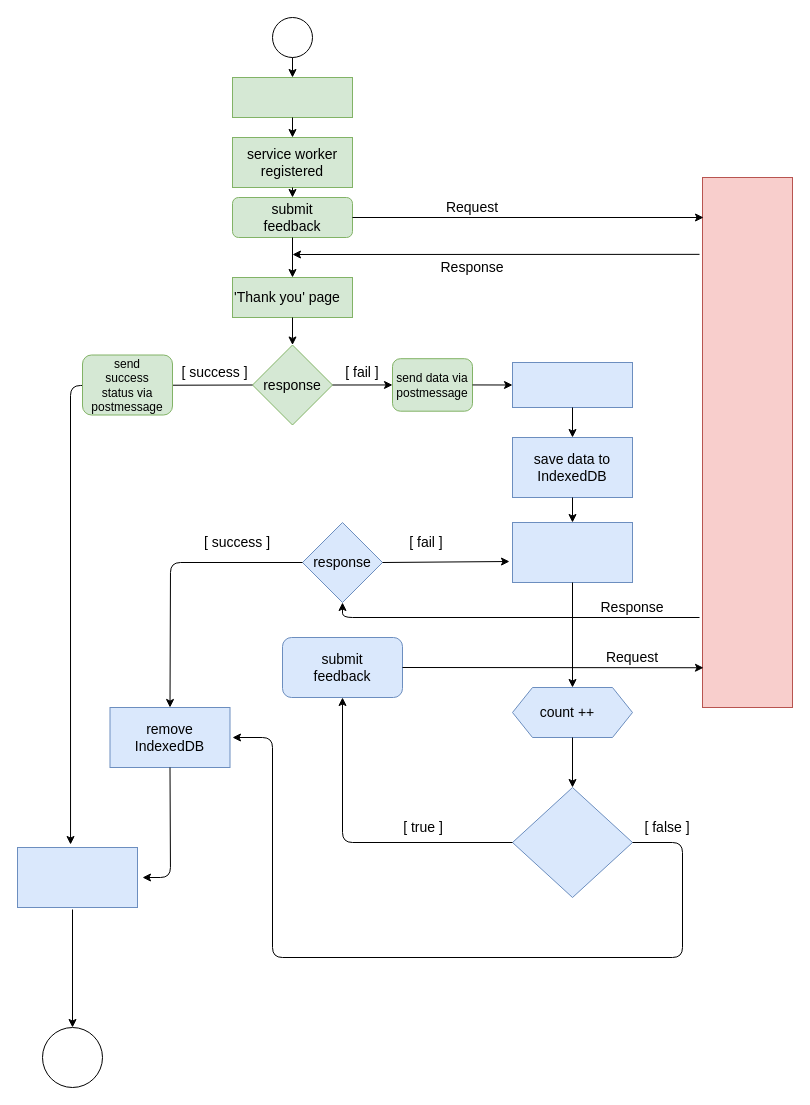
This 810x1105 diagram has some shape labels left out. Each missing label, with the centre of its shape:
"count < maxTry" belongs at (x=572, y=842).
"form loaded" belongs at (x=292, y=97).
"get data from IndexedDB" belongs at (x=572, y=552).
"initiate IndexedDB" belongs at (x=572, y=385).
"Server" belongs at (x=747, y=442).
"unregister service worker" belongs at (x=77, y=877).
